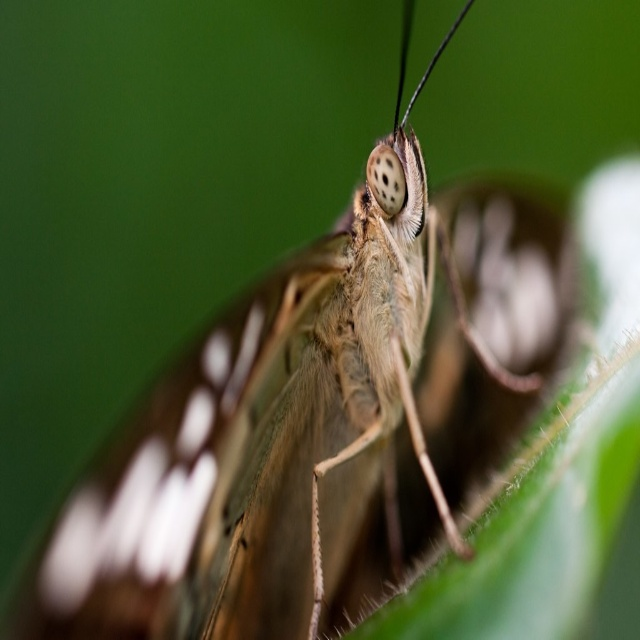Butterfly: (0, 0, 586, 639)
